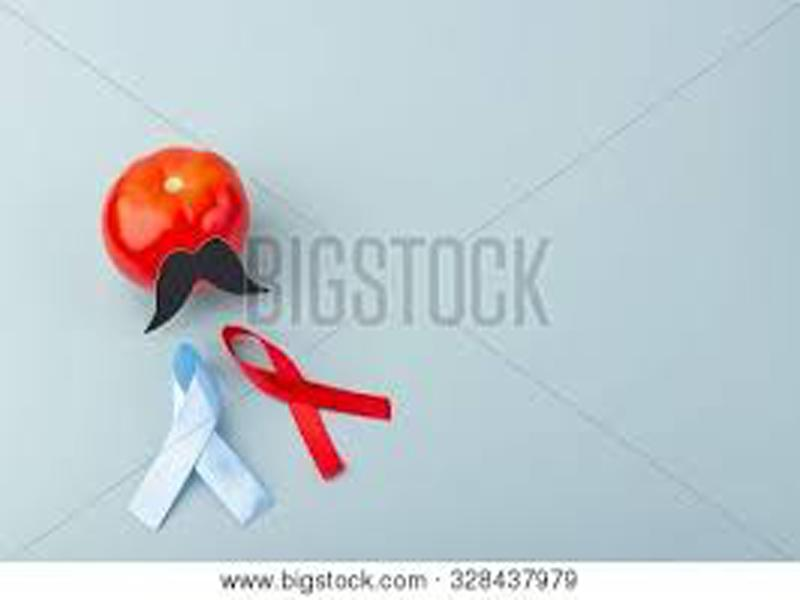Tomato: (102, 146, 250, 292)
